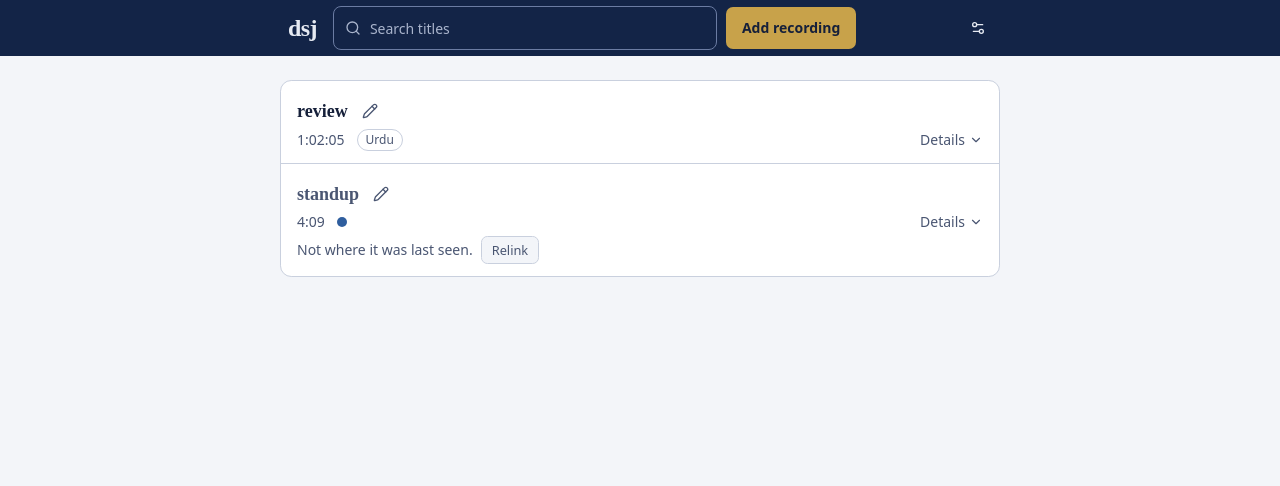
it: the library page › keeps date, engine and model under Details, and tags the row's language
Expected: the text "Urdu" is shown, [356,129,403,151]
Expected: the text "mlx-community" is not shown
What coordinates should you click on to do the following:
click the button "Details" in the row of "Urdu"
I would click on:
 (952, 140)
Its box is [920,130,983,150].
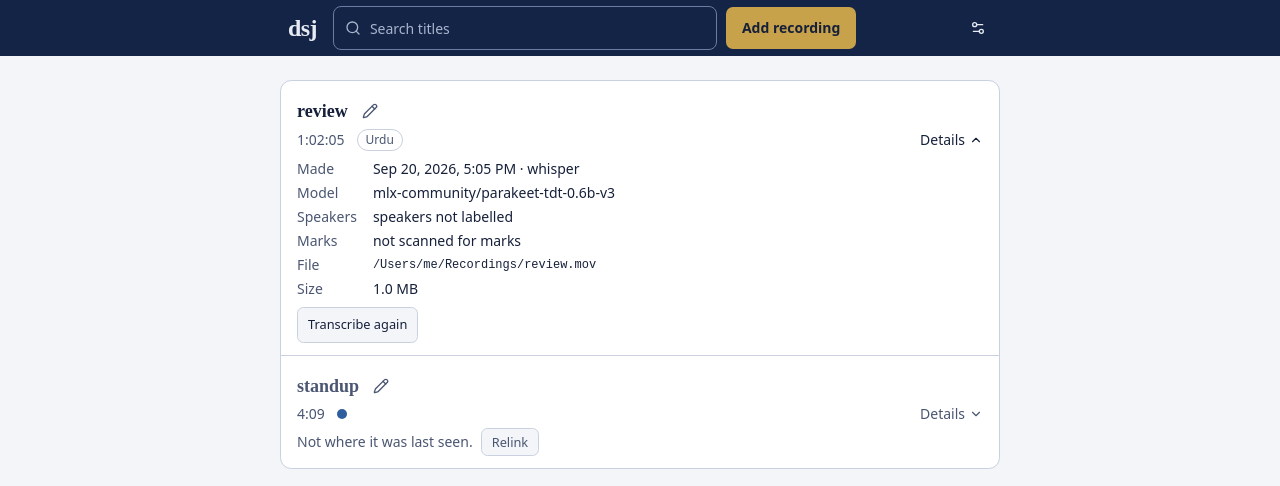
Now the text "mlx-community/parakeet-tdt-0.6b-v3" is shown, box [373,183,615,202]
Now the text "speakers not labelled" is shown, box [373,207,513,226]
